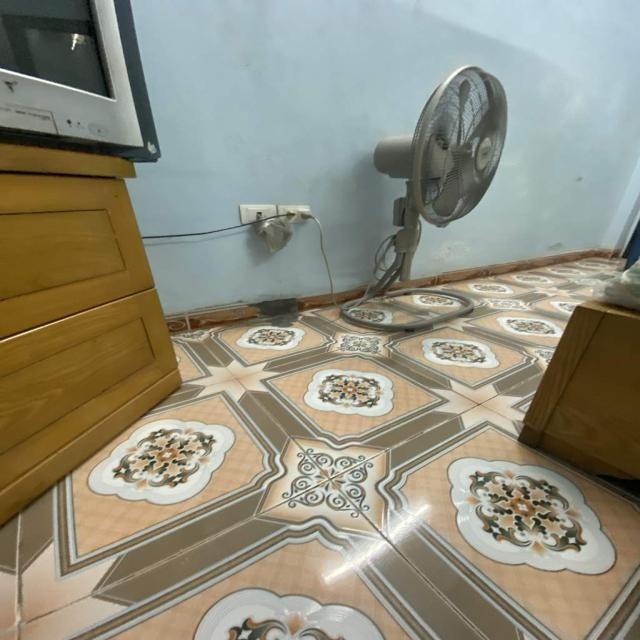outlet: (238, 204, 276, 225), (277, 205, 311, 223)
